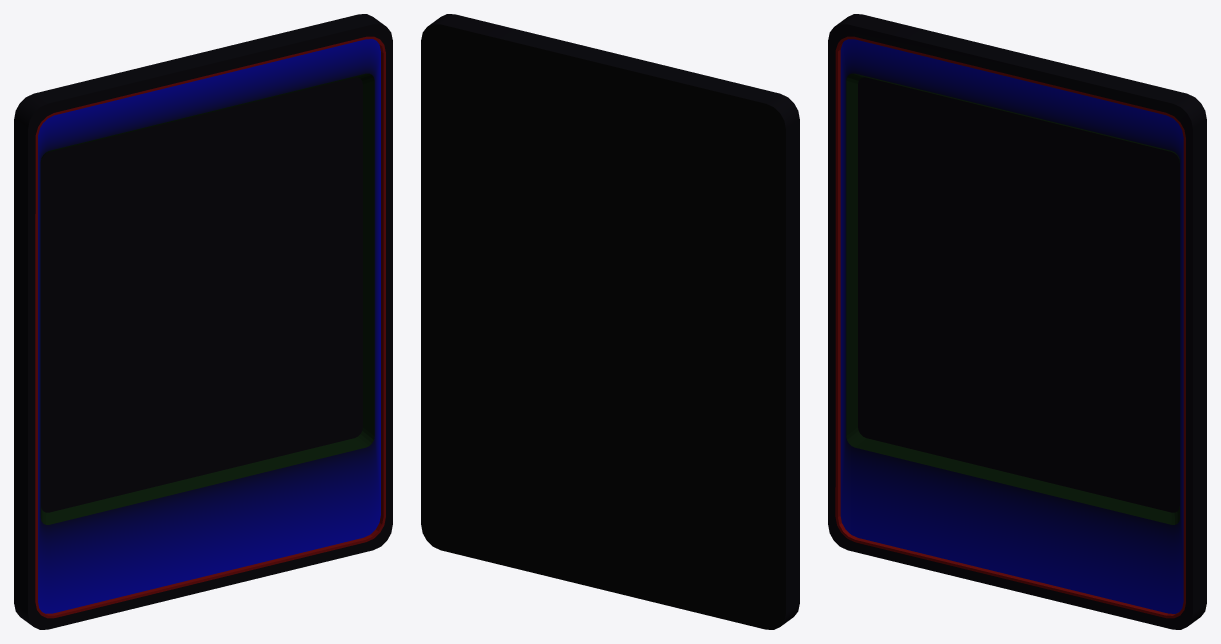
Rendered from threatCard.fbx.
3 renders of one model, left to right at view 1: azimuth 30°, elevation 25°; view 2: azimuth 150°, elevation 25°; view 3: azimuth 330°, elevation 25°, orthographic.
Parts seen in each view (by area): view 1: svgMesh4; view 2: svgMesh4; view 3: svgMesh4.
Part boxes in pixels (x1=…): svgMesh4: x1=14, y1=14, x2=392, y2=629; svgMesh4: x1=421, y1=14, x2=799, y2=629; svgMesh4: x1=828, y1=14, x2=1206, y2=629.
Bounding box in the file's own units: 7.26 × 10 × 0.4796.
